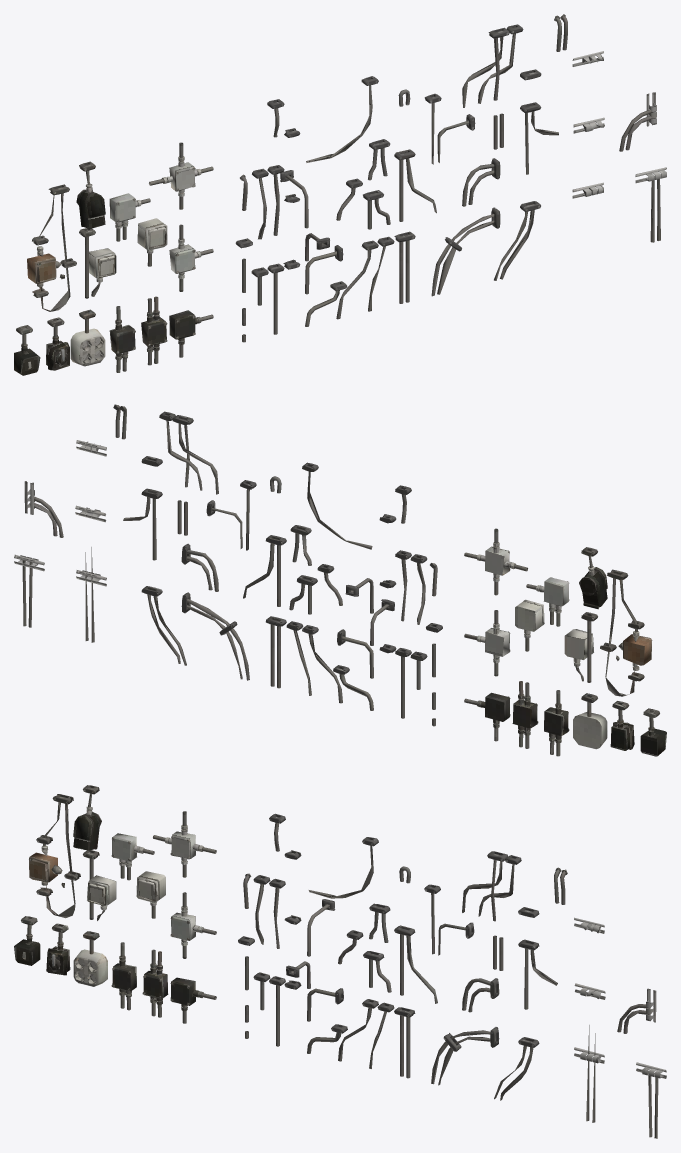
The model's file is modular_electric_cables.glb.
3 renders of one model, top to bottom at view 1: azimuth 30°, elevation 25°; view 2: azimuth 150°, elevation 25°; view 3: azimuth 330°, elevation 25°, orthographic.
Parts seen in each view (by area): view 1: cable_switch, cable_plug_4x, cable_3way_junction, cable_lightswitch_double, cable_double_turn_long, cable_plug_covered_2, cable_box_4way, cable_box_double, cable_box_3way, cable_box_double_to_single, cable_box_double_to_single_2, cable_lightswitch (+13 smaller); view 2: cable_switch, cable_double_alt_long, cable_plug_4x, cable_lightswitch_double, cable_3way_junction, cable_plug_covered_2, cable_box_4way, cable_box_double, cable_double_turn_long, cable_box_3way, cable_box_double_to_single_2, cable_box_double_to_single (+13 smaller); view 3: cable_switch, cable_double_alt_long, cable_plug_4x, cable_lightswitch_double, cable_plug_covered_2, cable_3way_junction, cable_box_4way, cable_box_double, cable_double_turn_long, cable_box_3way, cable_box_double_to_single, cable_box_double_to_single_2 (+12 smaller).
Boxes of the visible parts, left/top/right/bottom form: cable_switch: left=27, top=184, right=76, bottom=311; cable_plug_4x: left=70, top=309, right=105, bottom=366; cable_3way_junction: left=462, top=24, right=523, bottom=107; cable_lightswitch_double: left=79, top=228, right=116, bottom=298; cable_double_turn_long: left=431, top=207, right=500, bottom=296; cable_plug_covered_2: left=76, top=161, right=105, bottom=228; cable_box_4way: left=149, top=142, right=213, bottom=209; cable_box_double: left=141, top=296, right=167, bottom=365; cable_box_3way: left=169, top=224, right=213, bottom=291; cable_box_double_to_single: left=109, top=306, right=135, bottom=372; cable_box_double_to_single_2: left=109, top=193, right=150, bottom=241; cable_lightswitch: left=137, top=218, right=167, bottom=266; cable_switch: left=600, top=569, right=652, bottom=696; cable_double_alt_long: left=75, top=440, right=106, bottom=642; cable_plug_4x: left=573, top=693, right=607, bottom=749; cable_lightswitch_double: left=564, top=612, right=597, bottom=682; cable_3way_junction: left=159, top=411, right=218, bottom=494; cable_plug_covered_2: left=579, top=547, right=607, bottom=609; cable_box_4way: left=464, top=528, right=527, bottom=595; cable_box_double: left=512, top=681, right=538, bottom=748; cable_double_turn_long: left=181, top=592, right=249, bottom=680; cable_box_3way: left=464, top=610, right=510, bottom=676; cable_box_double_to_single_2: left=526, top=577, right=569, bottom=626; cable_box_double_to_single: left=544, top=690, right=569, bottom=756; cable_switch: left=29, top=794, right=80, bottom=918; cable_double_alt_long: left=574, top=917, right=605, bottom=1122; cable_plug_4x: left=73, top=931, right=107, bottom=986; cable_lightswitch_double: left=83, top=850, right=116, bottom=920; cable_plug_covered_2: left=73, top=785, right=101, bottom=850; cable_3way_junction: left=462, top=851, right=521, bottom=921; cable_box_4way: left=153, top=811, right=216, bottom=877; cable_box_double: left=142, top=949, right=168, bottom=1017; cable_double_turn_long: left=431, top=1027, right=499, bottom=1085; cable_box_3way: left=170, top=892, right=216, bottom=958; cable_box_double_to_single: left=111, top=942, right=136, bottom=1010; cable_box_double_to_single_2: left=111, top=833, right=154, bottom=880.
Bounding box in the file's own units: 2.08 × 0.7573 × 0.2145.
2 materials, 2 textured.
